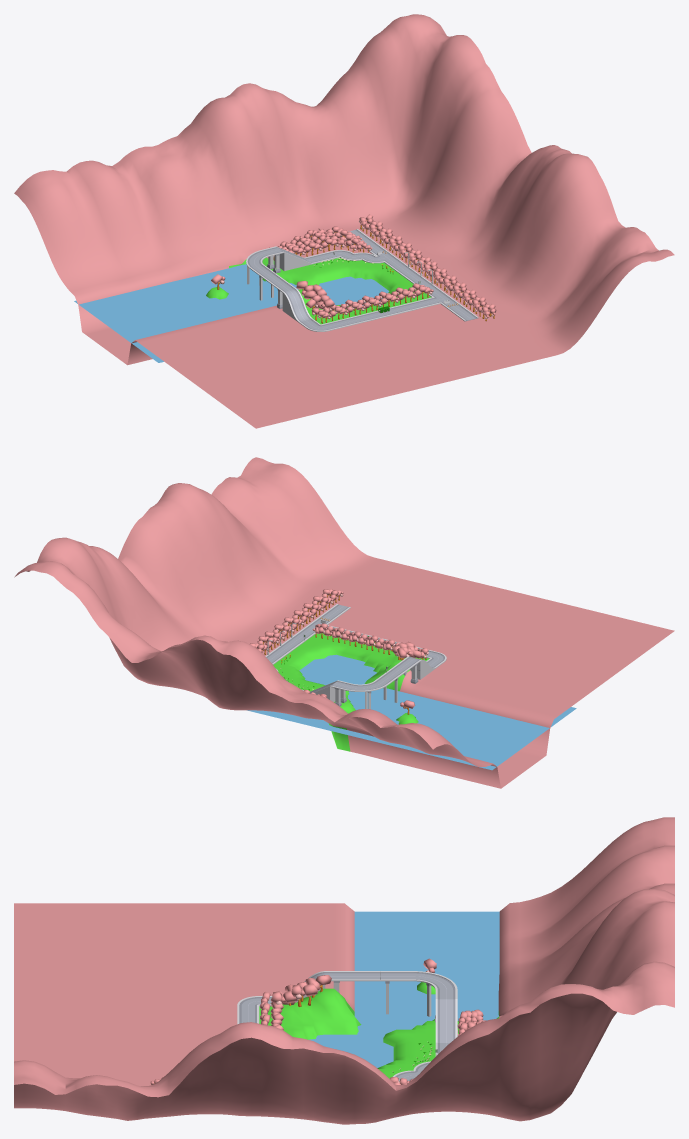
The model's file is Map_Spring.fbx.
3 renders of one model, top to bottom at view 1: azimuth 30°, elevation 25°; view 2: azimuth 150°, elevation 25°; view 3: azimuth 270°, elevation 25°, orthographic. The views are drawn at different scales.
Visible parts, largest first — view 1: Background, water, Road, Tree3, Tree2, Tree, Tree1; view 2: Background, water, Road, Tree3, Tree; view 3: Background, water, Road, Tree1, Tree.
Boxes of the visible parts, x1,y1,x2,y2 form: Background: [14, 14, 674, 428]; water: [74, 264, 389, 362]; Road: [246, 229, 478, 331]; Tree3: [359, 214, 496, 321]; Tree2: [269, 226, 372, 260]; Tree: [311, 283, 433, 323]; Tree1: [296, 281, 334, 313]; Background: [14, 457, 674, 788]; water: [247, 654, 576, 770]; Road: [265, 604, 446, 709]; Tree3: [250, 589, 343, 654]; Tree: [312, 623, 428, 659]; Background: [14, 817, 674, 1124]; water: [308, 911, 499, 1067]; Road: [237, 971, 457, 1081]; Tree1: [272, 975, 331, 1006]; Tree: [260, 991, 283, 1029].
Size of the model in its own units: 1200 by 522 by 1200.
